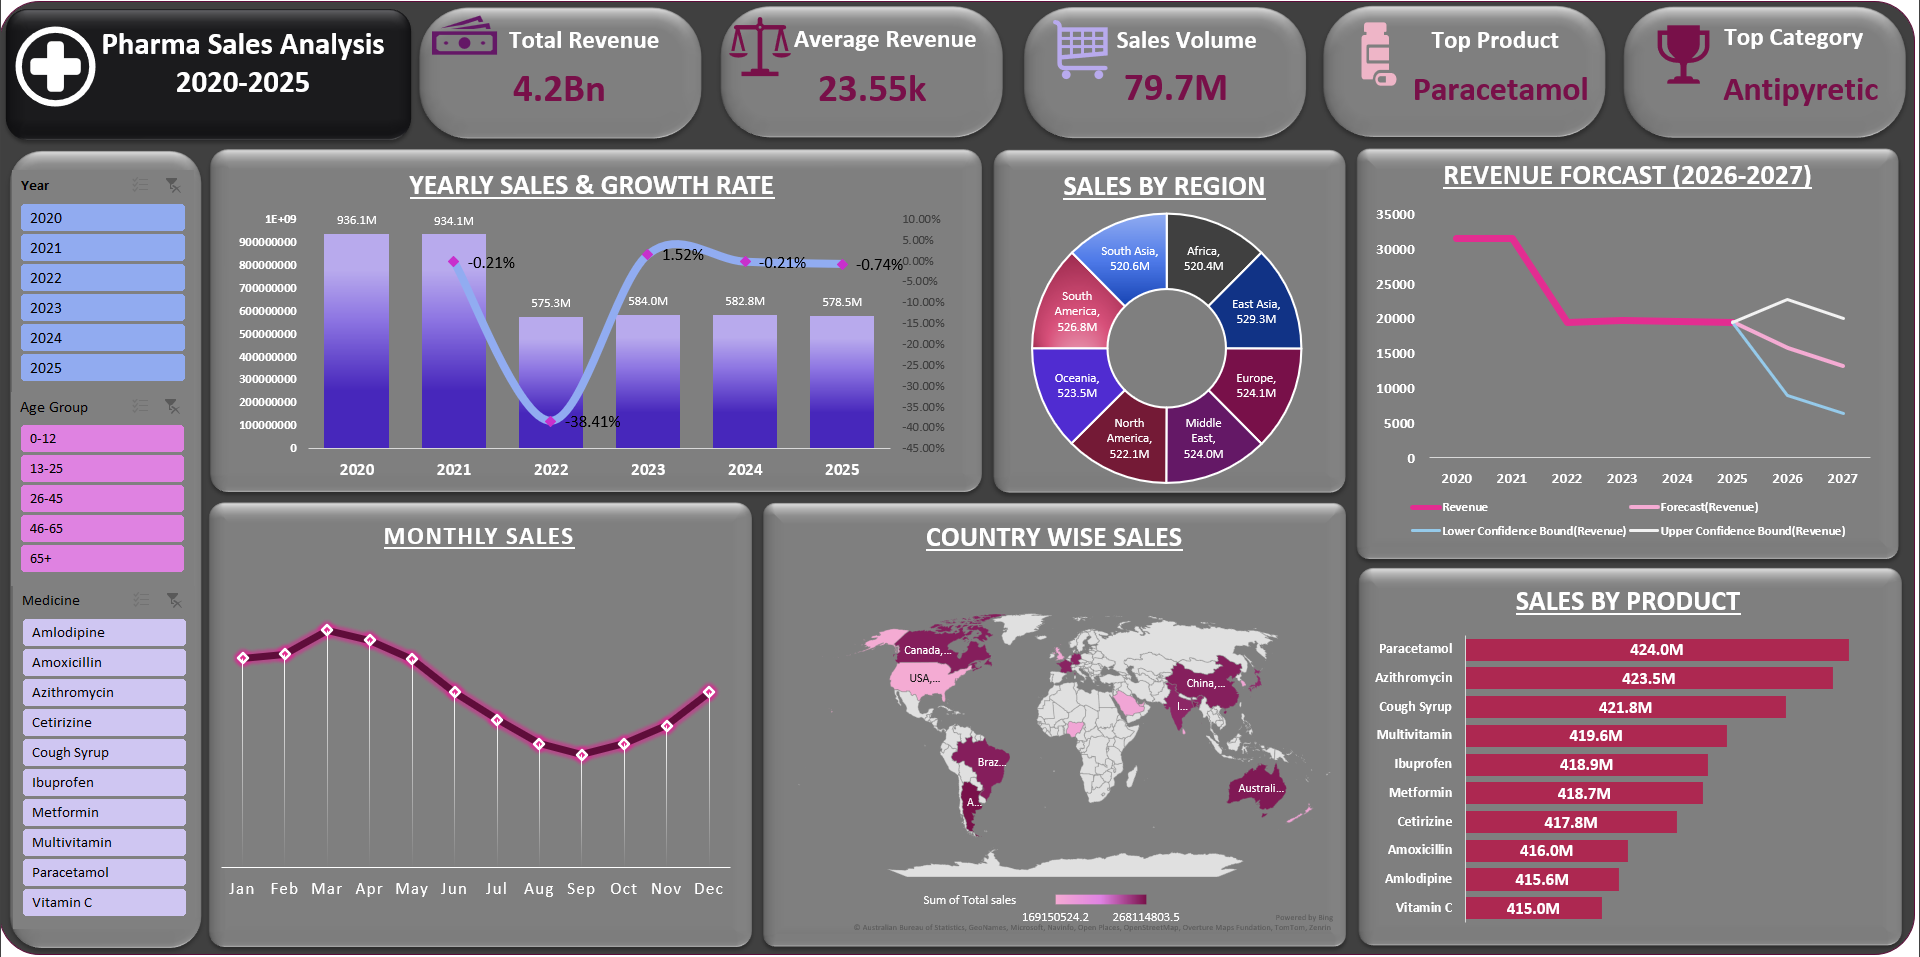

What the dashboard file says about the page in this screenshot:
{"tool":"powerbi","page":{"name":"Executive summary","canvas":[1280,720],"ordinal":0},"visuals":[{"type":"textbox","box":[11,0,320,80],"z":0},{"type":"cardVisual","title":"Total Revenue","fields":{"Data":["global_pharmacy_sales.Total Revenue"]},"box":[24,90,224,110],"z":1000},{"type":"cardVisual","title":"Total Units Sold","fields":{"Data":["Sum(global_pharmacy_sales.units_sold)"]},"box":[275,90,224,110],"z":2000},{"type":"cardVisual","title":"Top Medicine","fields":{"Data":["global_pharmacy_sales.Top Medicine"]},"box":[528,90,224,110],"z":3000},{"type":"cardVisual","title":"Near Expiry Count","fields":{"Data":["global_pharmacy_sales.NearExpiryCount"]},"box":[1034,90,224,110],"z":4000},{"type":"cardVisual","title":"Worst Performing Region","fields":{"Data":["global_pharmacy_sales.Worst Performing Region"]},"box":[782,90,224,110],"z":5000},{"type":"textbox","box":[341,0,928,80],"z":6000},{"type":"slicer","fields":{"Values":["global_pharmacy_sales.year"]},"box":[672,3,128,64],"z":7000},{"type":"slicer","fields":{"Values":["global_pharmacy_sales.COVID Period"]},"box":[352,11,304,48],"z":8000},{"type":"slicer","fields":{"Values":["global_pharmacy_sales.region"]},"box":[832,3,128,64],"z":9000},{"type":"slicer","fields":{"Values":["global_pharmacy_sales.category"]},"box":[992,3,128,64],"z":10000},{"type":"slicer","fields":{"Values":["global_pharmacy_sales.age_group"]},"box":[1136,3,128,64],"z":11000},{"type":"donutChart","title":"Revenue by category","fields":{"Category":["global_pharmacy_sales.category"],"Y":["Sum(global_pharmacy_sales.Revenue)"]},"box":[592,210,320,224],"z":12000},{"type":"map","title":"Revenue by country","fields":{"Category":["global_pharmacy_sales.country"],"Size":["Sum(global_pharmacy_sales.Revenue)"]},"box":[919,210,355,224],"z":13000},{"type":"lineClusteredColumnComboChart","title":"Yearly Revenue and YoY Growth% ","fields":{"Category":["Date Table.Year"],"Y":["Sum(global_pharmacy_sales.Revenue)"],"Y2":["global_pharmacy_sales.YoY Growth%"]},"box":[6,210,576,224],"z":14000},{"type":"pivotTable","title":"Revenue By Region","fields":{"Rows":["global_pharmacy_sales.region"],"Columns":["Date Table.Year"],"Values":["Sum(global_pharmacy_sales.Revenue)"]},"box":[8,442,657,272],"z":15000},{"type":"stackedAreaChart","title":"Monthly Revenue Trend by Category (Units Sold)","fields":{"Y":["Sum(global_pharmacy_sales.units_sold)"],"Series":["global_pharmacy_sales.category"],"Category":["global_pharmacy_sales.Month Name"]},"box":[674,442,600,272],"z":16000},{"type":"image","box":[16,118,80,48],"z":17000},{"type":"image","box":[273,117,81,56],"z":18000},{"type":"image","box":[531,91,36,88],"z":19000},{"type":"image","box":[779,121,53,48],"z":20000},{"type":"image","box":[1042,119,80,48],"z":21000},{"type":"textbox","box":[20,45,304,32],"z":22000}]}

Visuals, with their boxes on the page's 1280x720 design canvas (x1, y1, x2, y2). These are canvas units, not pixel positions in the 1920x957 screenshot, which may show the page scaled, cropped or inside an application window:
textbox: 11, 0, 331, 80
"Total Revenue" cardVisual: 24, 90, 248, 200
"Total Units Sold" cardVisual: 275, 90, 499, 200
"Top Medicine" cardVisual: 528, 90, 752, 200
"Near Expiry Count" cardVisual: 1034, 90, 1258, 200
"Worst Performing Region" cardVisual: 782, 90, 1006, 200
textbox: 341, 0, 1269, 80
slicer - global_pharmacy_sales.year: 672, 3, 800, 67
slicer - global_pharmacy_sales.COVID Period: 352, 11, 656, 59
slicer - global_pharmacy_sales.region: 832, 3, 960, 67
slicer - global_pharmacy_sales.category: 992, 3, 1120, 67
slicer - global_pharmacy_sales.age_group: 1136, 3, 1264, 67
"Revenue by category" donutChart: 592, 210, 912, 434
"Revenue by country" map: 919, 210, 1274, 434
"Yearly Revenue and YoY Growth% " lineClusteredColumnComboChart: 6, 210, 582, 434
"Revenue By Region" pivotTable: 8, 442, 665, 714
"Monthly Revenue Trend by Category (Units Sold)" stackedAreaChart: 674, 442, 1274, 714
image: 16, 118, 96, 166
image: 273, 117, 354, 173
image: 531, 91, 567, 179
image: 779, 121, 832, 169
image: 1042, 119, 1122, 167
textbox: 20, 45, 324, 77
